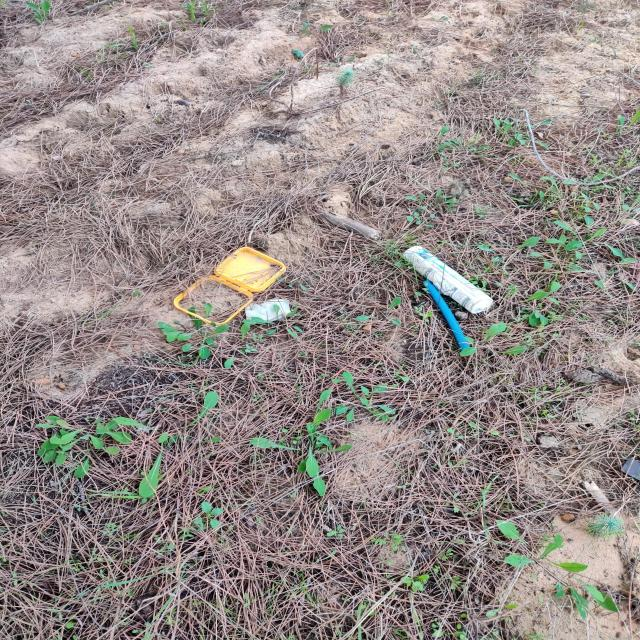litter: (136, 228, 323, 348), (392, 237, 507, 320), (421, 278, 484, 358)
